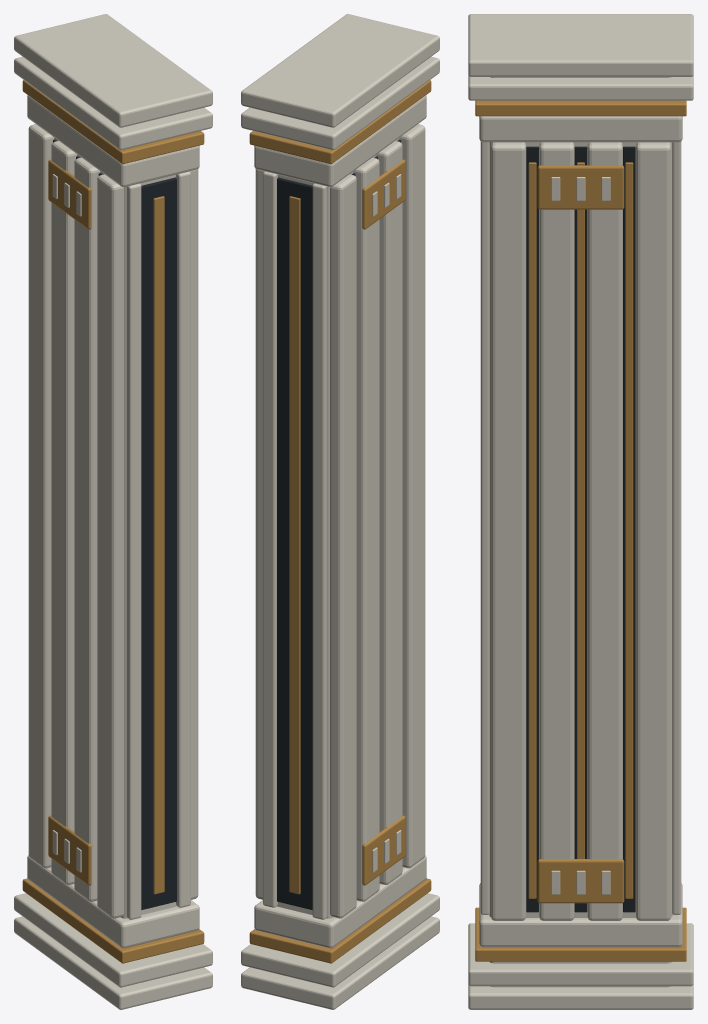
The model's file is SM_Aurelion_KIT_Z10ChamberRib.fbx.
3 views of the same model, side by side, from view 1: azimuth 30°, elevation 25°; view 2: azimuth 150°, elevation 25°; view 3: azimuth 270°, elevation 25° (orthographic). The views are drawn at different scales.
Parts seen in each view (by area): view 1: SM_Aurelion_KIT_Z10ChamberRib; view 2: SM_Aurelion_KIT_Z10ChamberRib; view 3: SM_Aurelion_KIT_Z10ChamberRib.
Part boxes in pixels (bbox=[...]): SM_Aurelion_KIT_Z10ChamberRib: bbox=[14, 14, 212, 1009]; SM_Aurelion_KIT_Z10ChamberRib: bbox=[241, 14, 439, 1009]; SM_Aurelion_KIT_Z10ChamberRib: bbox=[468, 14, 693, 1009].
Size of the model in its own units: 57.2 by 112 by 520.
